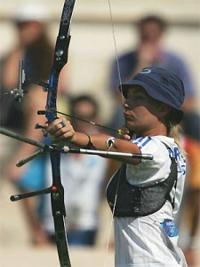person: (48, 63, 189, 267)
